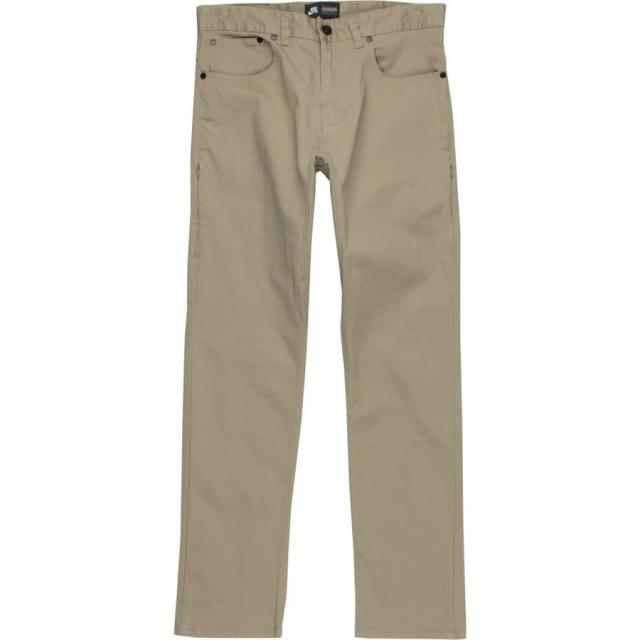long-pants: (169, 5, 464, 640)
